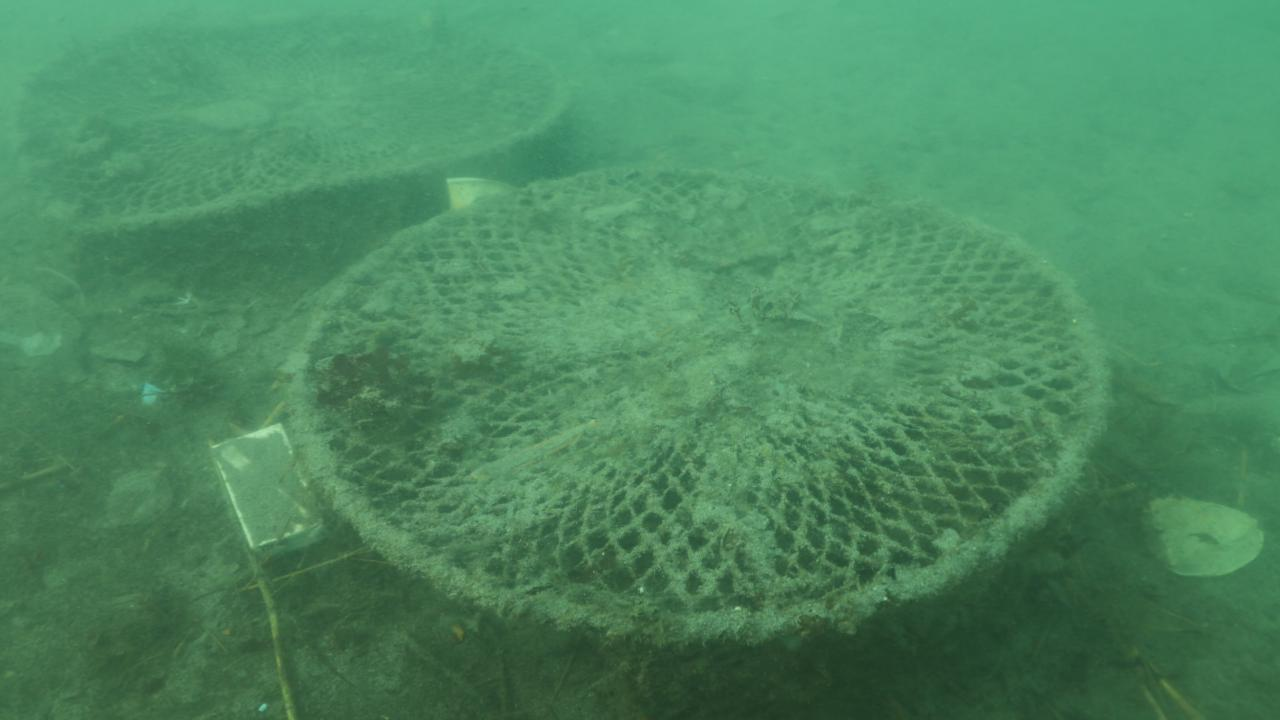circular fish trap: (280, 149, 1120, 650), (13, 0, 586, 245)
